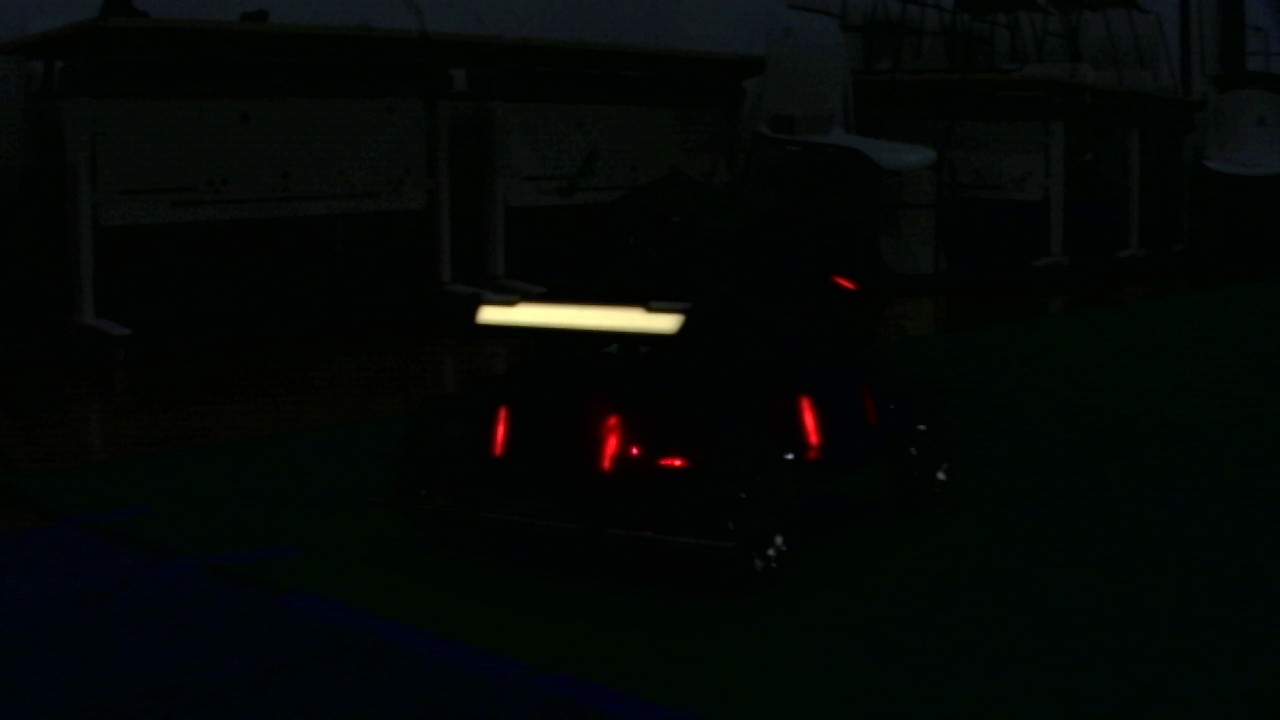lamp: (795, 390, 821, 456), (599, 408, 619, 475), (487, 406, 510, 464)
notpair1: (602, 392, 821, 475)
pair1: (488, 409, 622, 475)
